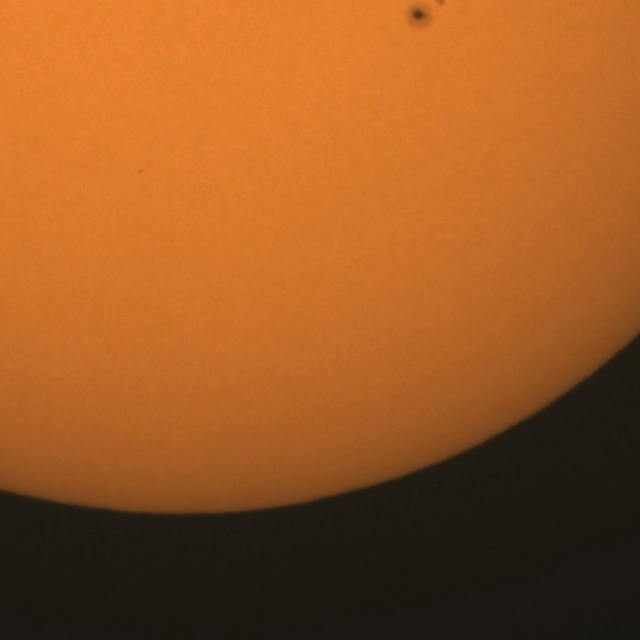sunspot: (412, 0, 448, 28), (408, 4, 432, 29), (136, 167, 145, 176), (436, 0, 446, 6)
